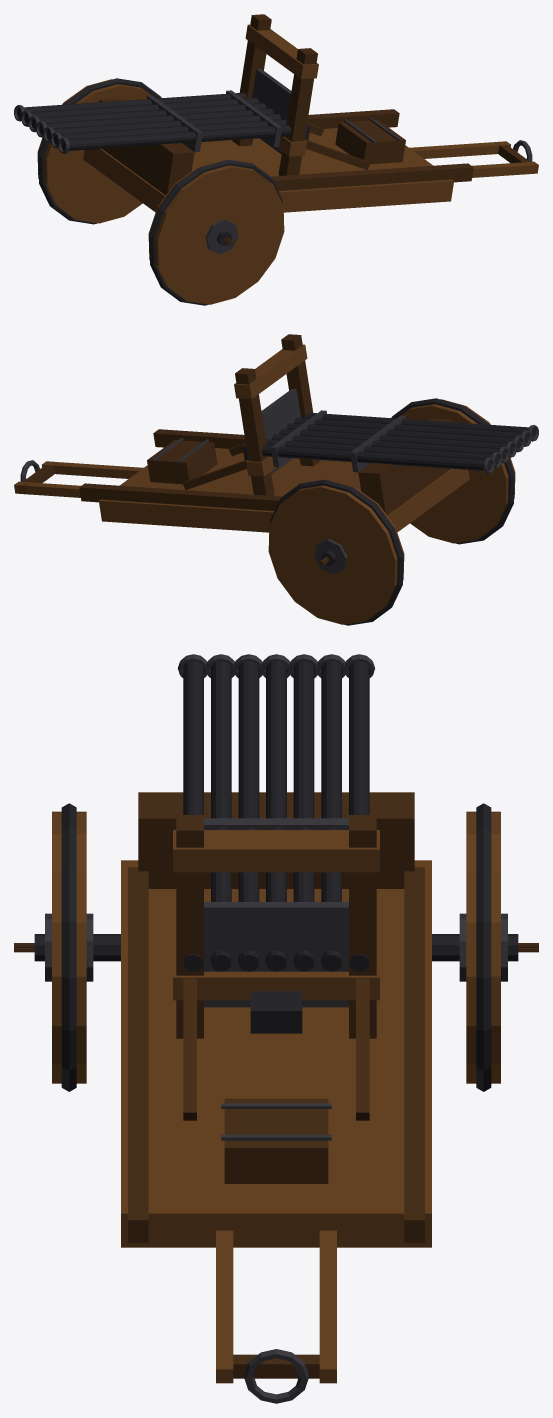
File: volley_gun_wagon.glb
3 renders of one model, top to bottom at view 1: azimuth 30°, elevation 25°; view 2: azimuth 150°, elevation 25°; view 3: azimuth 270°, elevation 25°, orthographic. The views are drawn at different scales.
Parts seen in each view (by area): view 1: VolleyGunWagon.004, VolleyGunWagon, VolleyGunWagon.013, VolleyGunWagon.001, VolleyGunWagon.003, VolleyGunWagon.027, VolleyGunWagon.047, VolleyGunWagon.023, VolleyGunWagon.006, VolleyGunWagon.025, VolleyGunWagon.035, VolleyGunWagon.031 (+15 smaller); view 2: VolleyGunWagon.013, VolleyGunWagon, VolleyGunWagon.004, VolleyGunWagon.002, VolleyGunWagon.003, VolleyGunWagon.039, VolleyGunWagon.047, VolleyGunWagon.024, VolleyGunWagon.015, VolleyGunWagon.025, VolleyGunWagon.031, VolleyGunWagon.035 (+16 smaller); view 3: VolleyGunWagon, VolleyGunWagon.045, VolleyGunWagon.003, VolleyGunWagon.025, VolleyGunWagon.047, VolleyGunWagon.001, VolleyGunWagon.002, VolleyGunWagon.004, VolleyGunWagon.013, VolleyGunWagon.026, VolleyGunWagon.006, VolleyGunWagon.015 (+20 smaller).
Boxes of the visible parts, x1,y1,x2,y2 form: VolleyGunWagon.004: (148,160,284,304); VolleyGunWagon: (83,128,453,212); VolleyGunWagon.013: (37,79,151,223); VolleyGunWagon.001: (271,163,473,190); VolleyGunWagon.003: (99,98,194,195); VolleyGunWagon.027: (61,125,291,150); VolleyGunWagon.047: (335,120,405,164); VolleyGunWagon.023: (278,48,317,175); VolleyGunWagon.006: (149,159,282,305); VolleyGunWagon.025: (245,24,318,79); VolleyGunWagon.035: (31,103,266,129); VolleyGunWagon.031: (46,114,281,139); VolleyGunWagon.013: (268,480,404,624); VolleyGunWagon: (99,448,469,532); VolleyGunWagon.004: (401,399,515,543); VolleyGunWagon.002: (79,483,281,510); VolleyGunWagon.003: (358,418,453,515); VolleyGunWagon.039: (261,445,491,470); VolleyGunWagon.047: (147,440,217,484); VolleyGunWagon.024: (235,368,274,495); VolleyGunWagon.015: (270,479,403,625); VolleyGunWagon.025: (234,344,307,399); VolleyGunWagon.031: (286,423,521,449); VolleyGunWagon.035: (271,434,506,459); VolleyGunWagon: (121,860,431,1247); VolleyGunWagon.045: (204,902,348,1007); VolleyGunWagon.003: (138,792,414,888); VolleyGunWagon.025: (173,830,379,872); VolleyGunWagon.047: (224,1098,328,1183); VolleyGunWagon.001: (128,867,148,1242); VolleyGunWagon.002: (404,867,424,1242); VolleyGunWagon.004: (52,811,86,1083); VolleyGunWagon.013: (466,811,500,1083); VolleyGunWagon.026: (173,958,379,1000); VolleyGunWagon.006: (61,803,76,1091); VolleyGunWagon.015: (476,803,491,1091).
Size of the model in its own units: 3.04 by 1.19 by 1.52.
